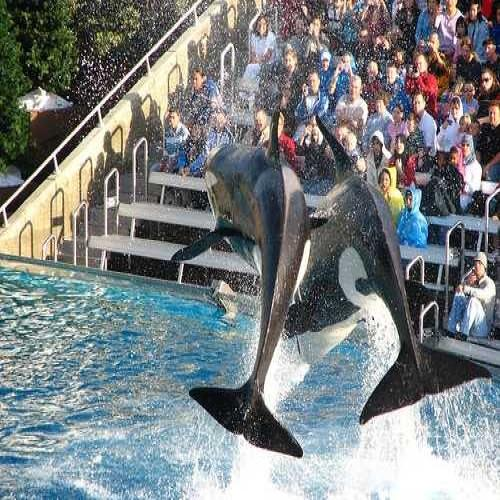killer_whale-endangered: (272, 153, 476, 406), (189, 119, 309, 439)
